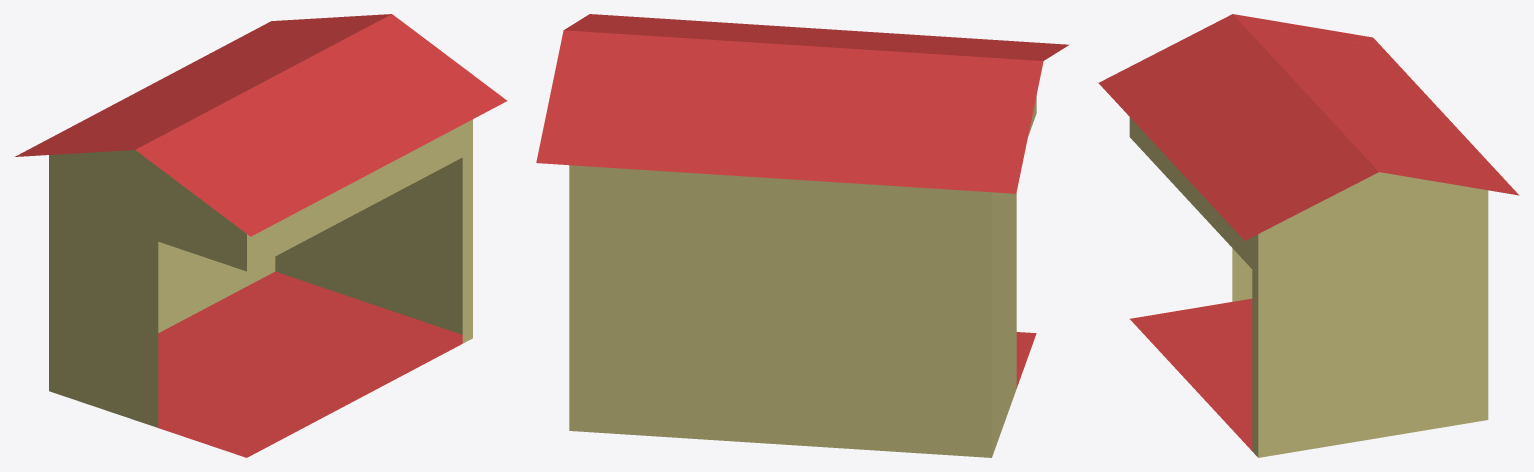
The picture shows the model from 3 angles, left to right: view 1: azimuth 30°, elevation 25°; view 2: azimuth 150°, elevation 25°; view 3: azimuth 270°, elevation 25°; orthographic projection. The views are drawn at different scales.
Size of the model in its own units: 15.02 by 13.14 by 9.52.
